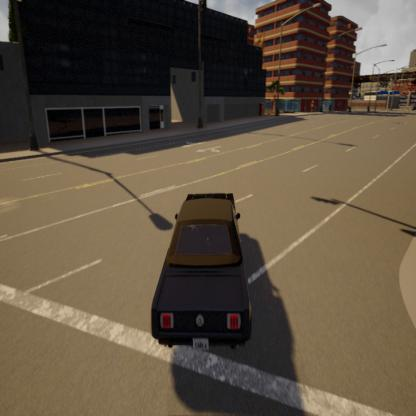Cars: (148, 189, 253, 359)
